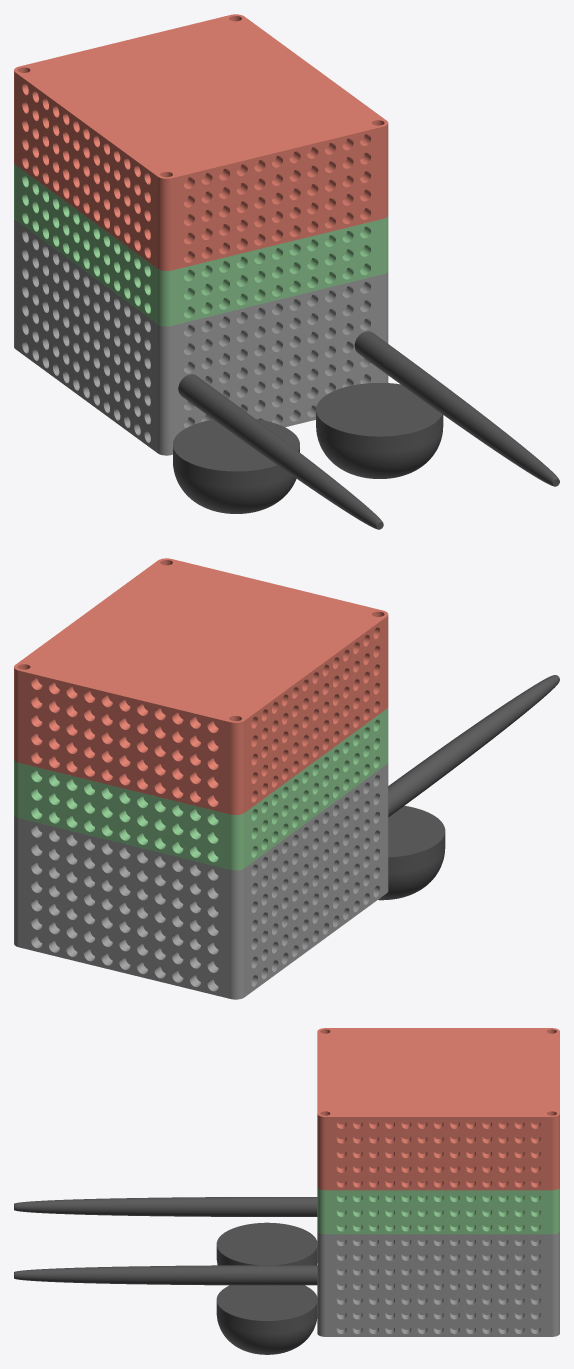
The model's file is RobotFullBody.glb.
3 views of the same model, one above another, from view 1: azimuth 30°, elevation 25°; view 2: azimuth 150°, elevation 25°; view 3: azimuth 270°, elevation 25° (orthographic). The views are drawn at different scales.
Visible parts, largest first — view 1: Battery, Brain, Electronic, Cam1, Cam2, Antenna1, Antenna2; view 2: Battery, Brain, Electronic, Antenna2, Cam2; view 3: Battery, Brain, Electronic, Cam1, Antenna1, Antenna2, Cam2.
Boxes of the visible parts, x1,y1,x2,y2 form: Battery: [14, 14, 388, 270]; Brain: [14, 219, 388, 455]; Electronic: [14, 163, 388, 326]; Cam1: [316, 383, 443, 478]; Cam2: [173, 419, 299, 513]; Antenna1: [354, 331, 559, 486]; Antenna2: [178, 374, 383, 529]; Battery: [14, 558, 388, 814]; Brain: [14, 763, 388, 999]; Electronic: [14, 707, 388, 870]; Antenna2: [388, 675, 559, 817]; Cam2: [378, 805, 445, 900]; Battery: [317, 1028, 559, 1190]; Brain: [317, 1232, 559, 1336]; Electronic: [317, 1188, 559, 1234]; Cam1: [216, 1285, 317, 1354]; Antenna1: [14, 1265, 317, 1285]; Antenna2: [14, 1197, 317, 1216]; Cam2: [216, 1222, 317, 1285].
Size of the model in its own units: 115 by 137 by 270.
